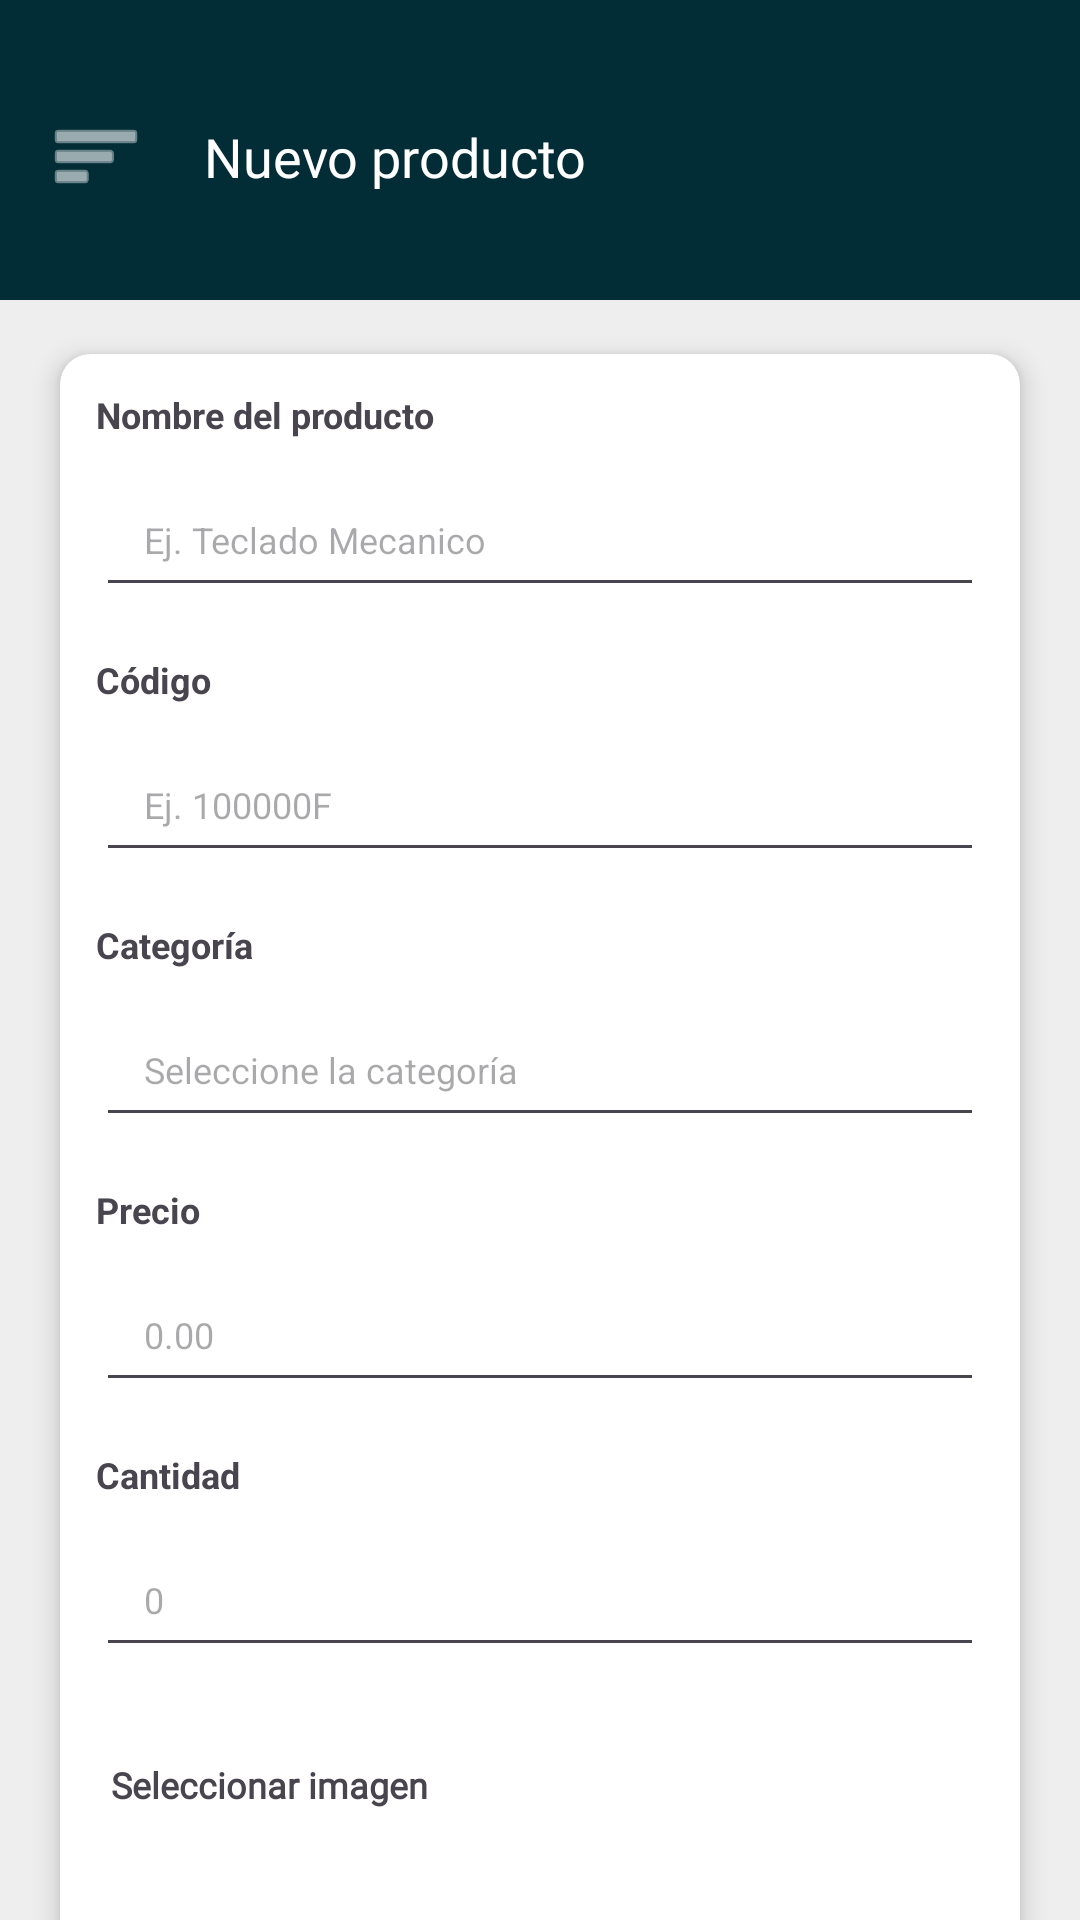

Icon click points for this 1080×1920 phone screenshot, format [x,y]:
Abrir menú: [96,156]
